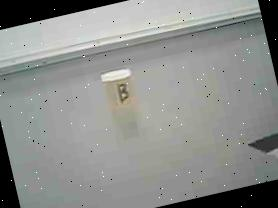Bottle B: (92, 60, 151, 127)
